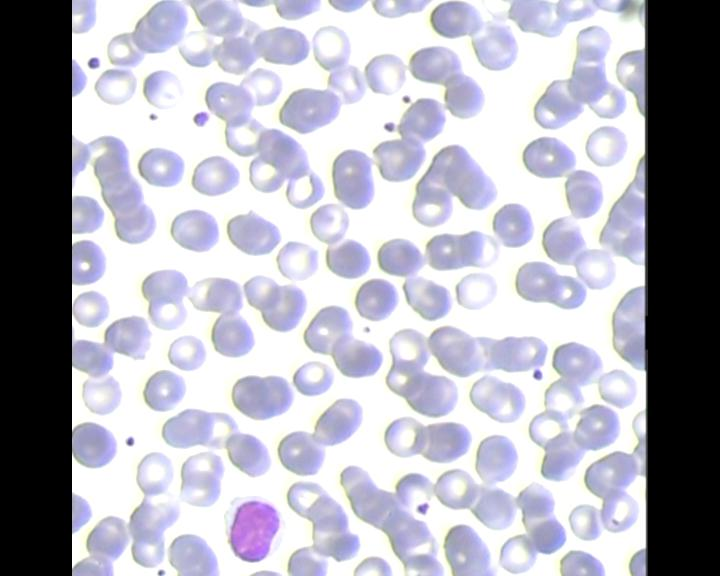lymp: (218, 493, 286, 563)
